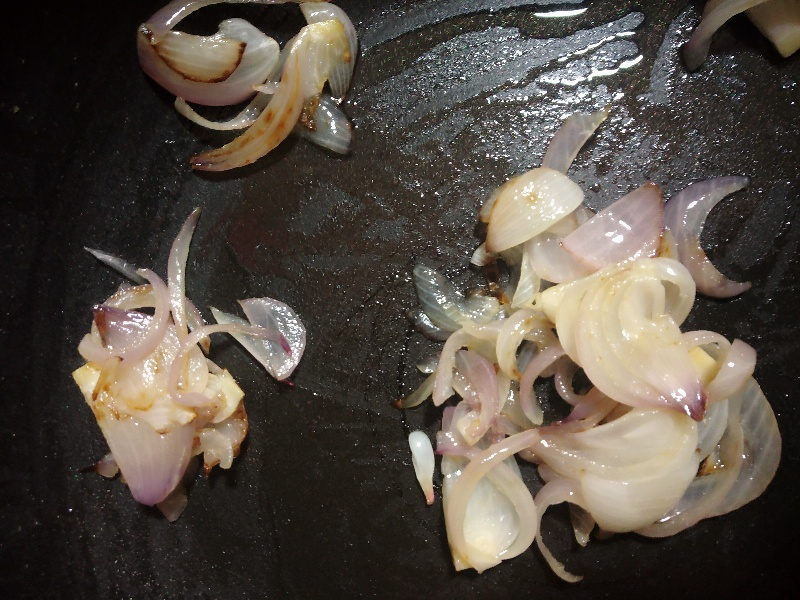onion_golden: (62, 242, 265, 510), (123, 4, 356, 173), (453, 169, 586, 254)
